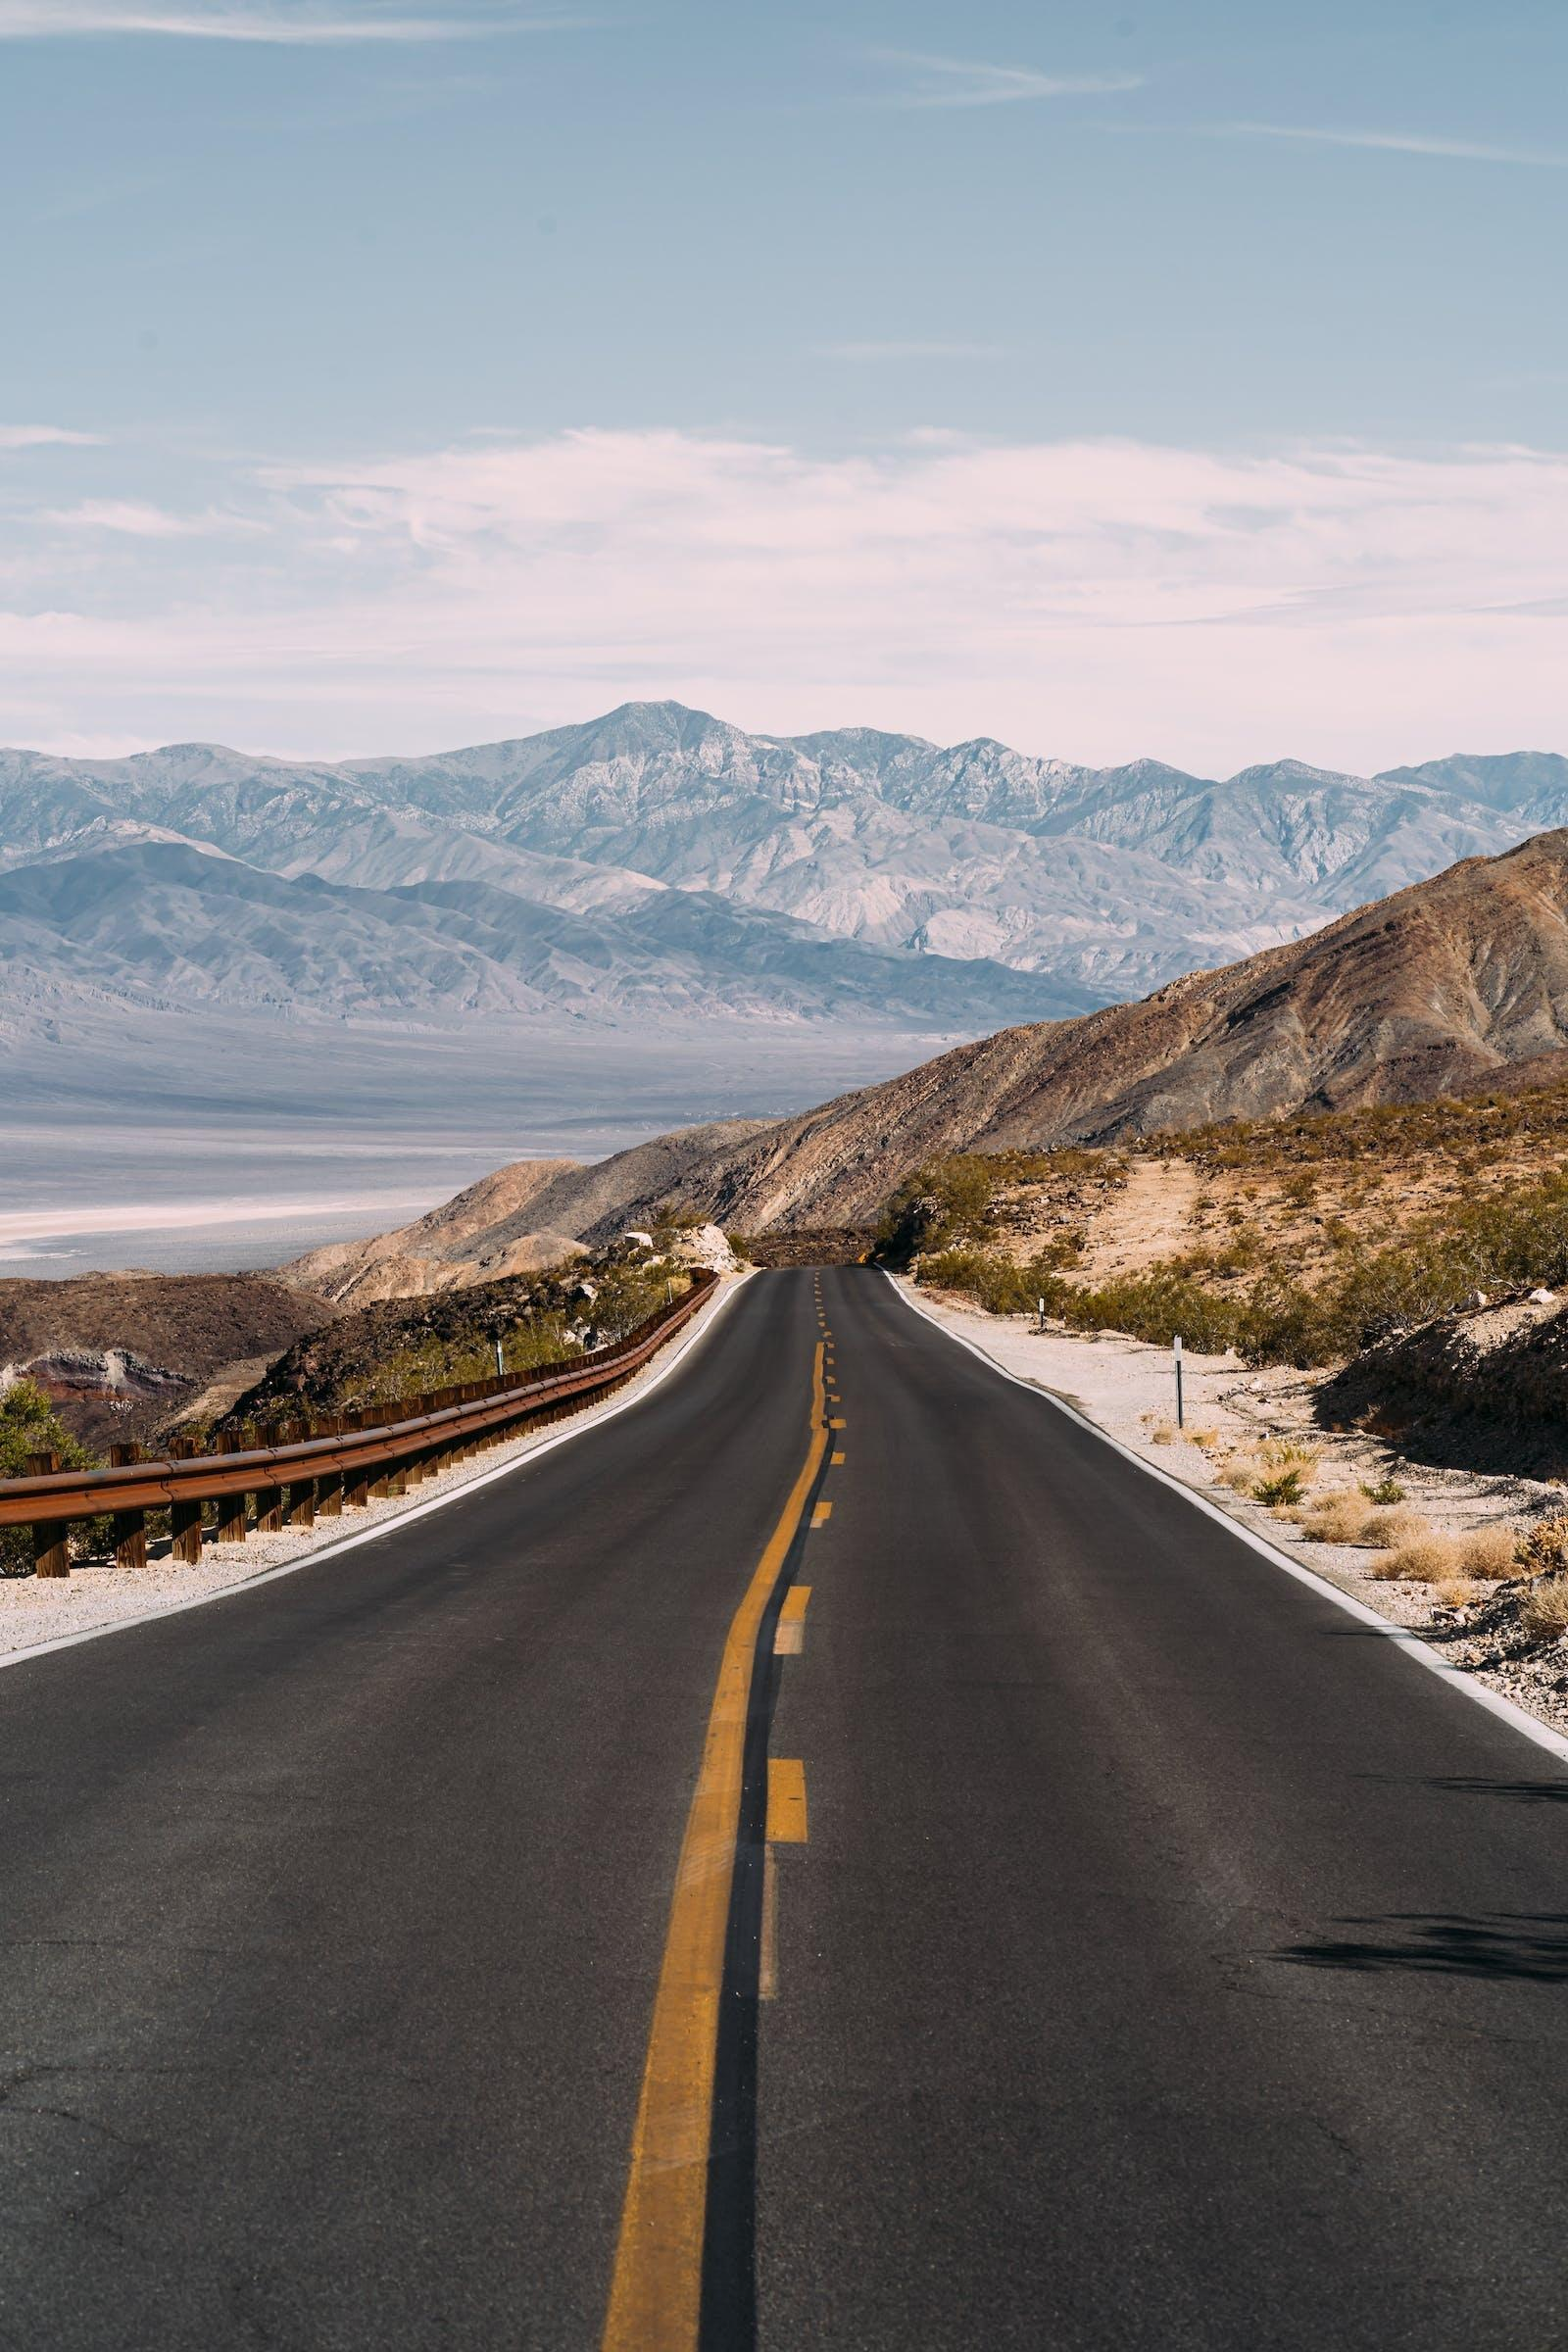field: (878, 1083, 1566, 1725)
road: (5, 1269, 1564, 2350)
